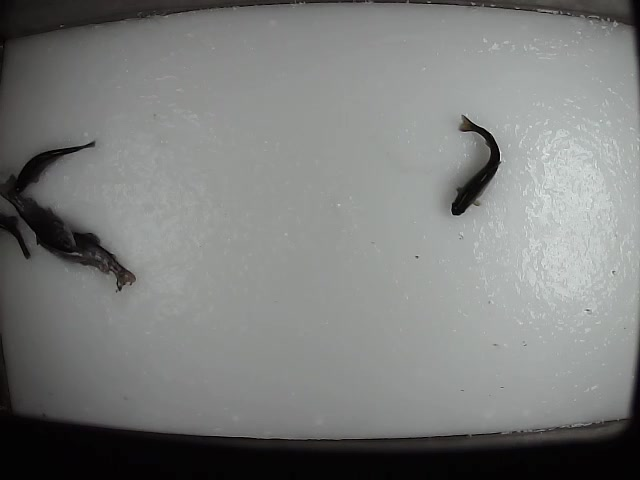Fish: (1, 174, 77, 253), (51, 230, 136, 291), (451, 115, 500, 216), (13, 141, 96, 195)
